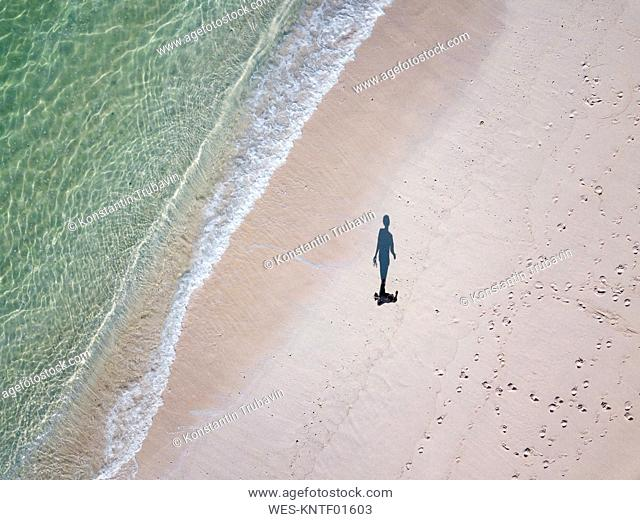person: (370, 280, 405, 321)
